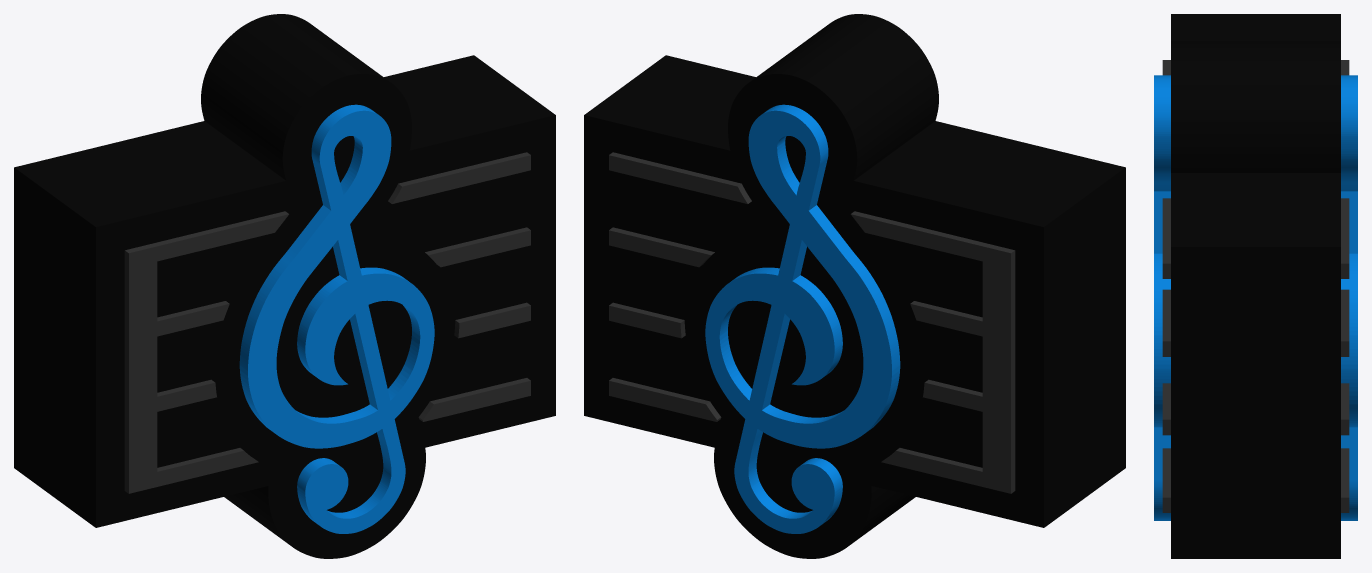
The picture shows the model from 3 angles, left to right: view 1: azimuth 30°, elevation 25°; view 2: azimuth 150°, elevation 25°; view 3: azimuth 270°, elevation 25°; orthographic projection. The views are drawn at different scales.
Visible parts, largest first — view 1: U+1F3BC_layer00_obj00, U+1F3BC_layer02_obj00, U+1F3BC_layer01_obj00; view 2: U+1F3BC_layer00_obj00, U+1F3BC_layer02_obj00, U+1F3BC_layer01_obj00; view 3: U+1F3BC_layer00_obj00, U+1F3BC_layer02_obj00, U+1F3BC_layer01_obj00.
Boxes of the visible parts, left/top/right/bottom form: U+1F3BC_layer00_obj00: left=14, top=14, right=555, bottom=558; U+1F3BC_layer02_obj00: left=239, top=104, right=434, bottom=533; U+1F3BC_layer01_obj00: left=124, top=152, right=530, bottom=493; U+1F3BC_layer00_obj00: left=584, top=14, right=1125, bottom=558; U+1F3BC_layer02_obj00: left=705, top=104, right=900, bottom=533; U+1F3BC_layer01_obj00: left=609, top=152, right=1015, bottom=493; U+1F3BC_layer00_obj00: left=1171, top=14, right=1340, bottom=558; U+1F3BC_layer02_obj00: left=1154, top=75, right=1357, bottom=520; U+1F3BC_layer01_obj00: left=1162, top=60, right=1349, bottom=512.
Size of the model in its own units: 0.6491 by 0.649 by 0.24.
